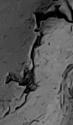crack: (1, 0, 73, 125)
